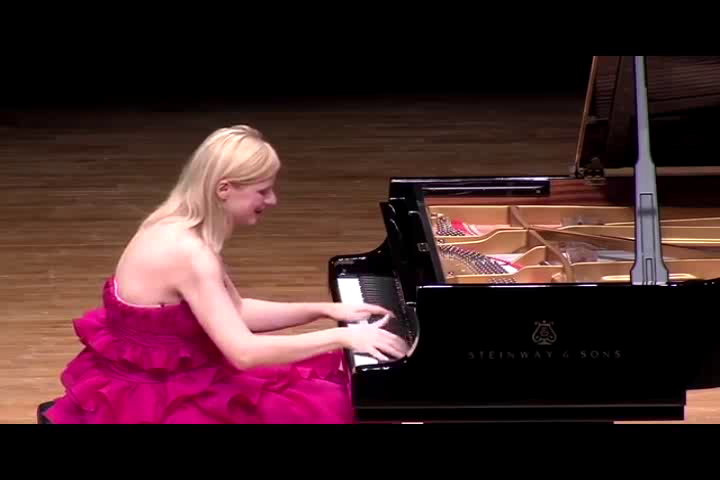keyboard: (333, 267, 415, 388)
